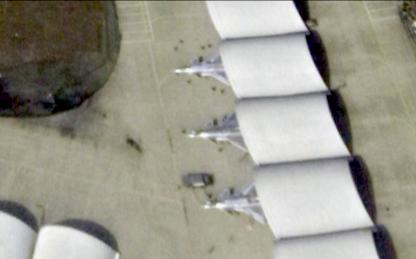F4: (202, 180, 266, 223), (186, 111, 250, 151), (172, 53, 232, 86)
